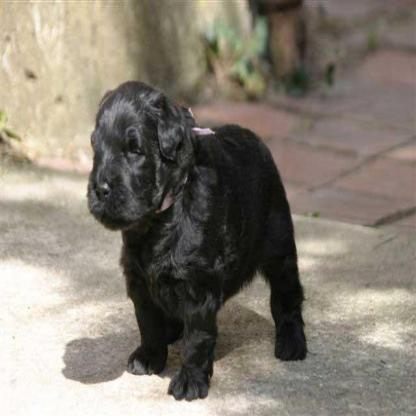Bouvier_des_Flandres: (85, 76, 306, 400)
